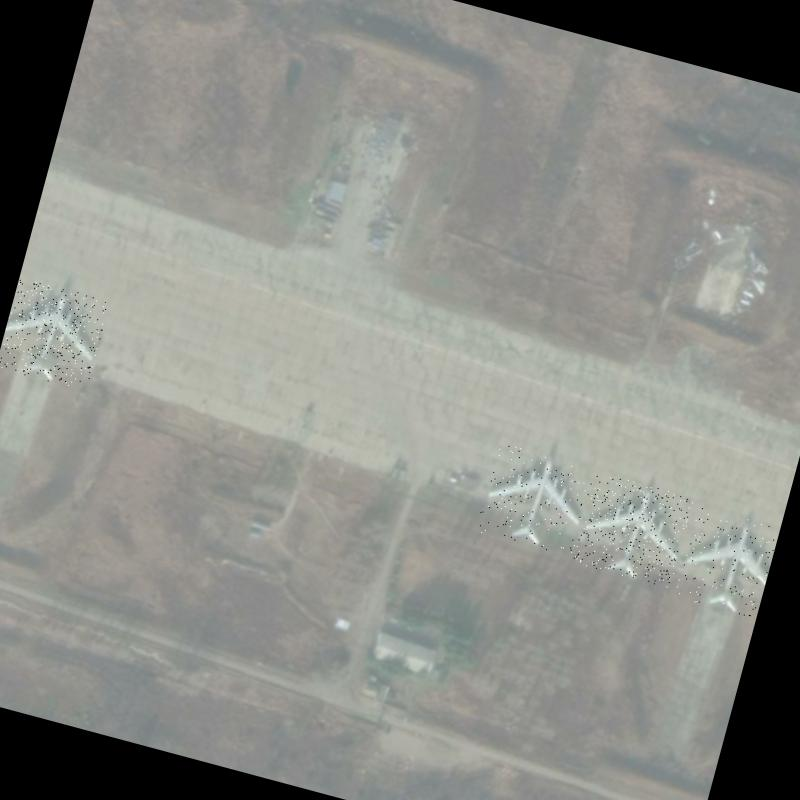A12: (572, 471, 694, 588), (475, 442, 595, 557), (0, 276, 110, 391), (672, 506, 778, 618)
